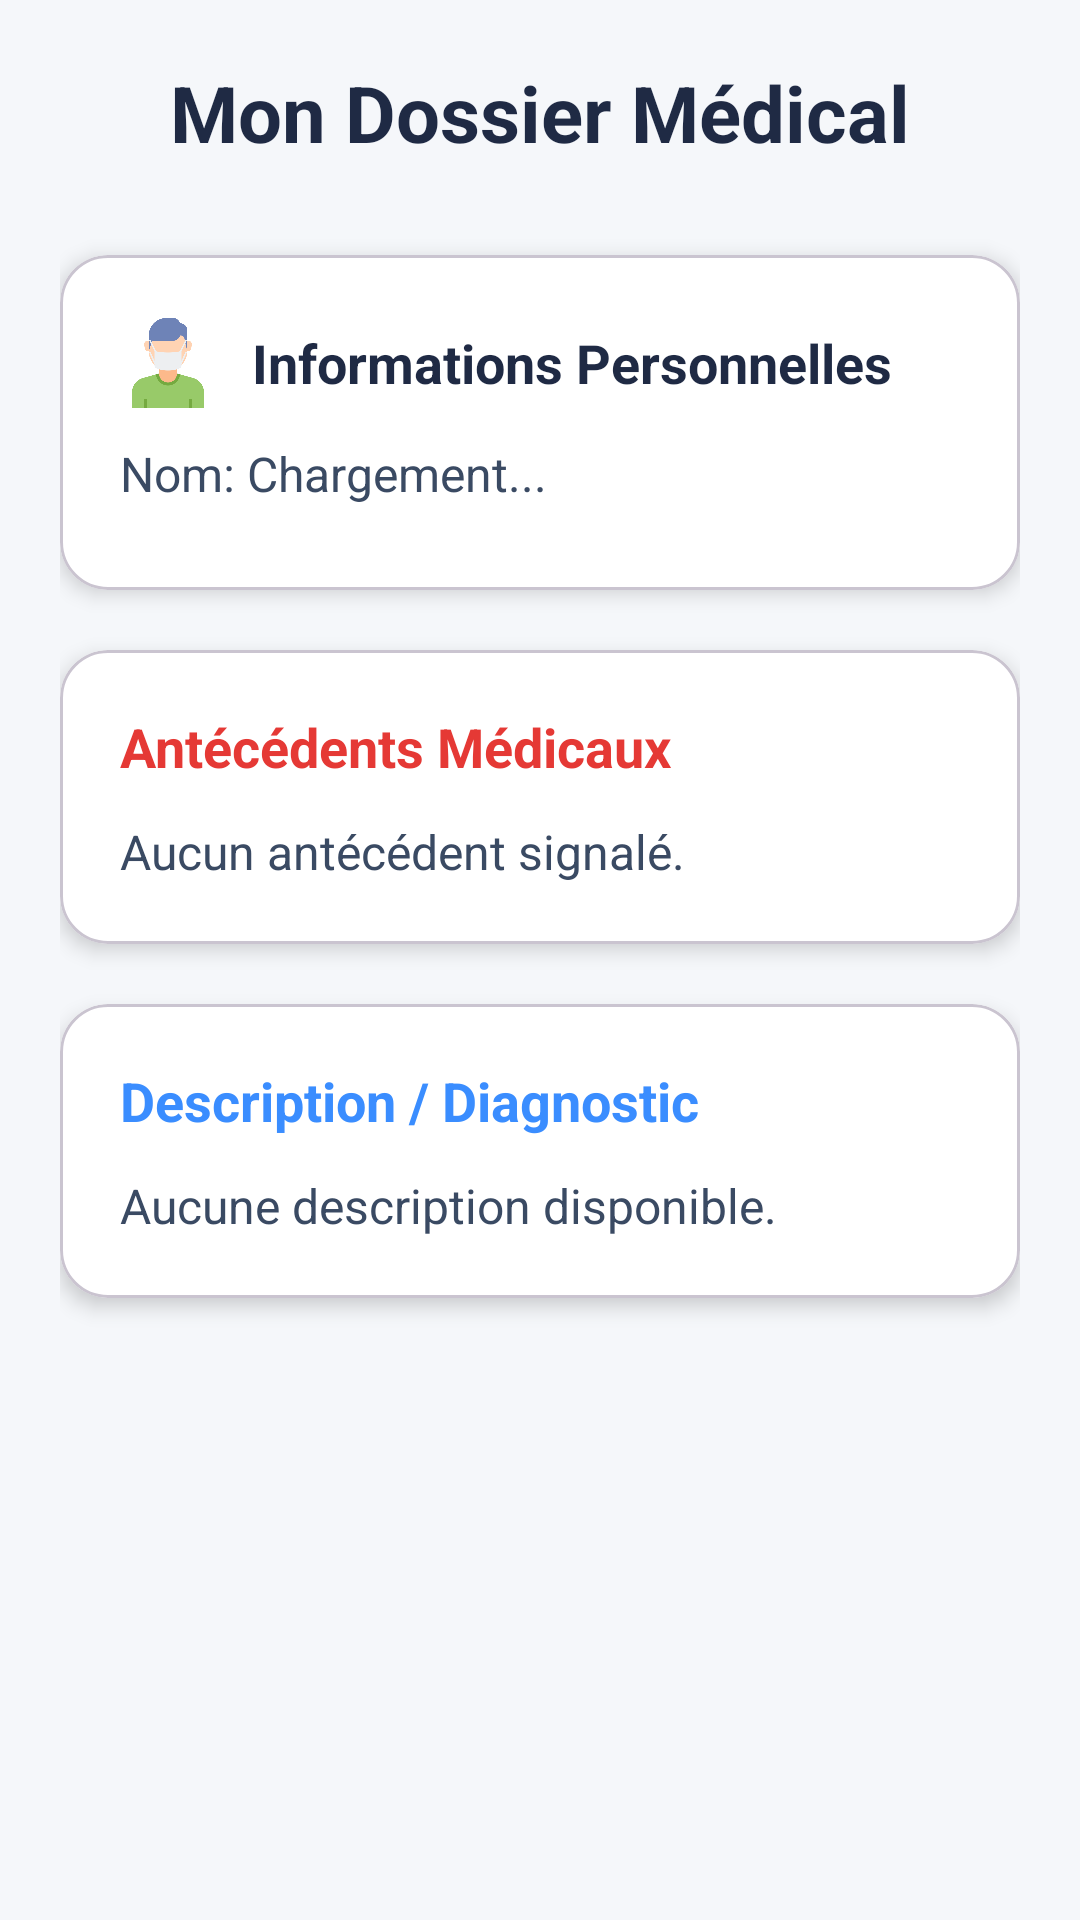

Icon click points for this 1080 x 1920 phone screenshot, format (x,y):
patient: (168,363)
